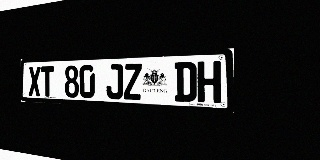0: (79, 65, 94, 98)
8: (65, 65, 79, 98)
D: (174, 62, 196, 102)
H: (197, 61, 221, 103)
J: (106, 64, 123, 99)
T: (41, 66, 54, 97)
X: (28, 66, 41, 96)
Z: (124, 63, 142, 100)
